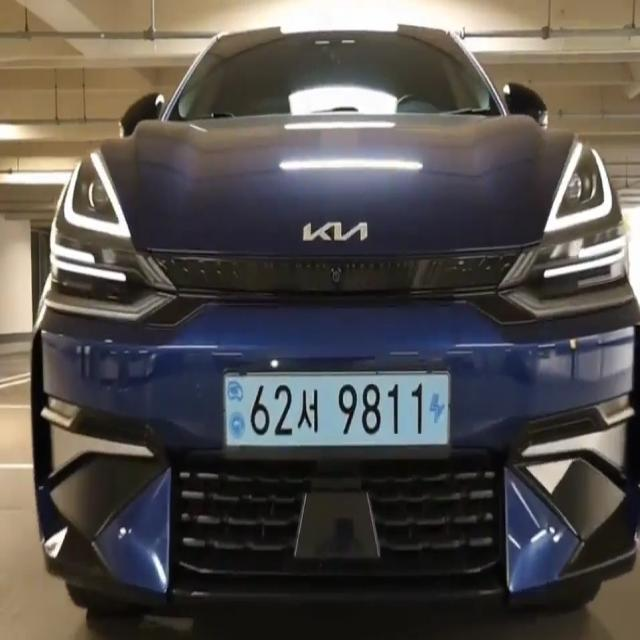car: (224, 365, 450, 452)
carev: (225, 375, 249, 445), (423, 383, 447, 439)
